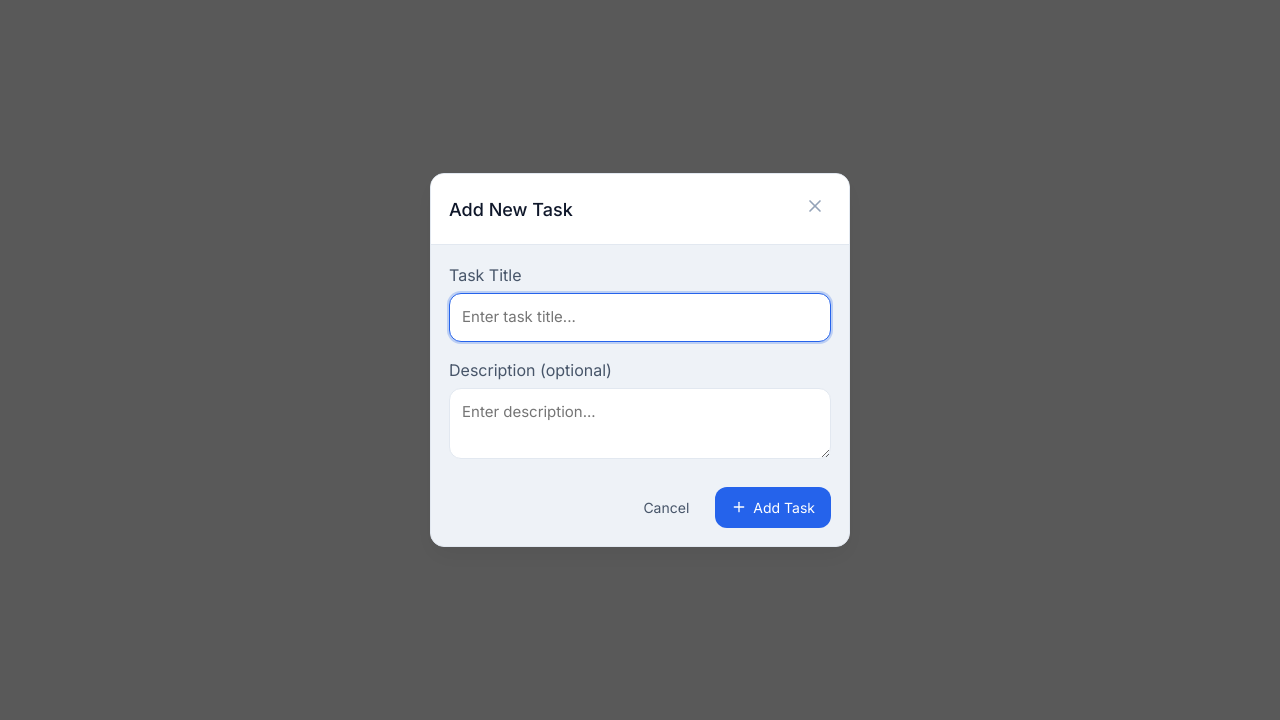
Scenario: AddTaskModal — validation › shows error for unsupported characters
The width and height of the screenshot is (1280, 720).
Type "Task @#$%" into the field labelled "Task Title" at (640, 318), box [449,293,831,342]
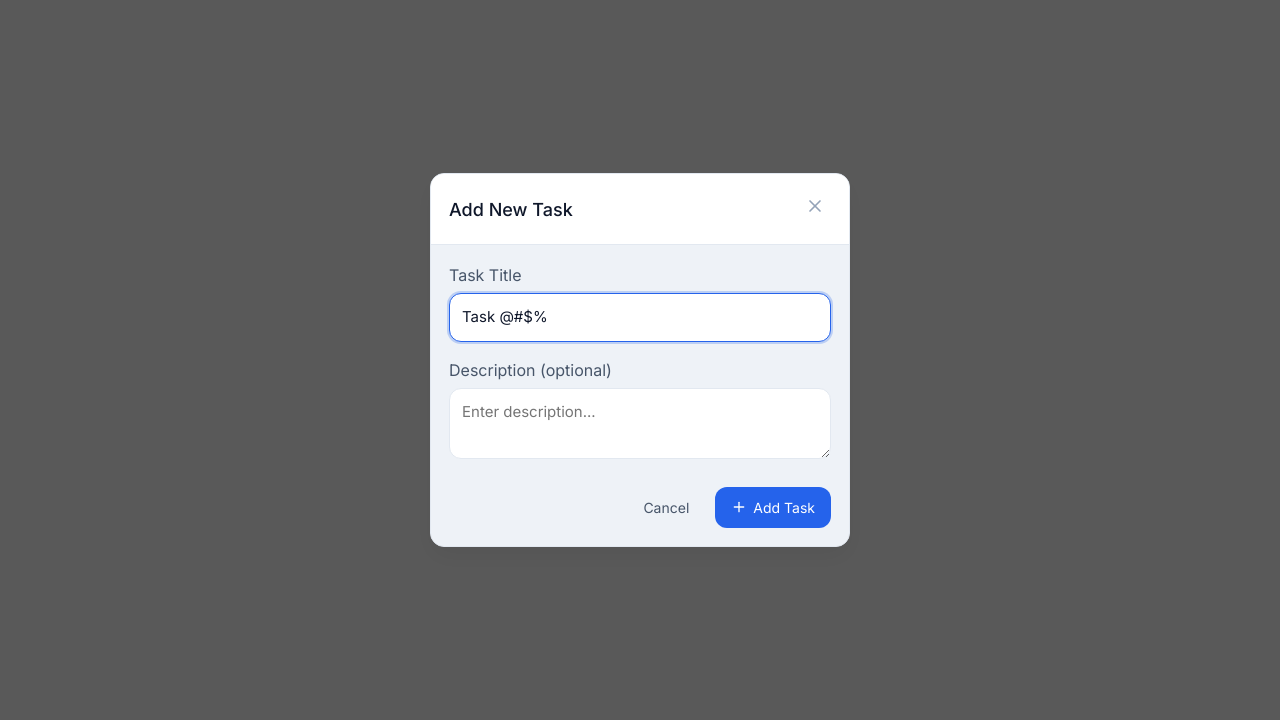
Click the button "Add Task" at (773, 507), box [715,487,831,528]
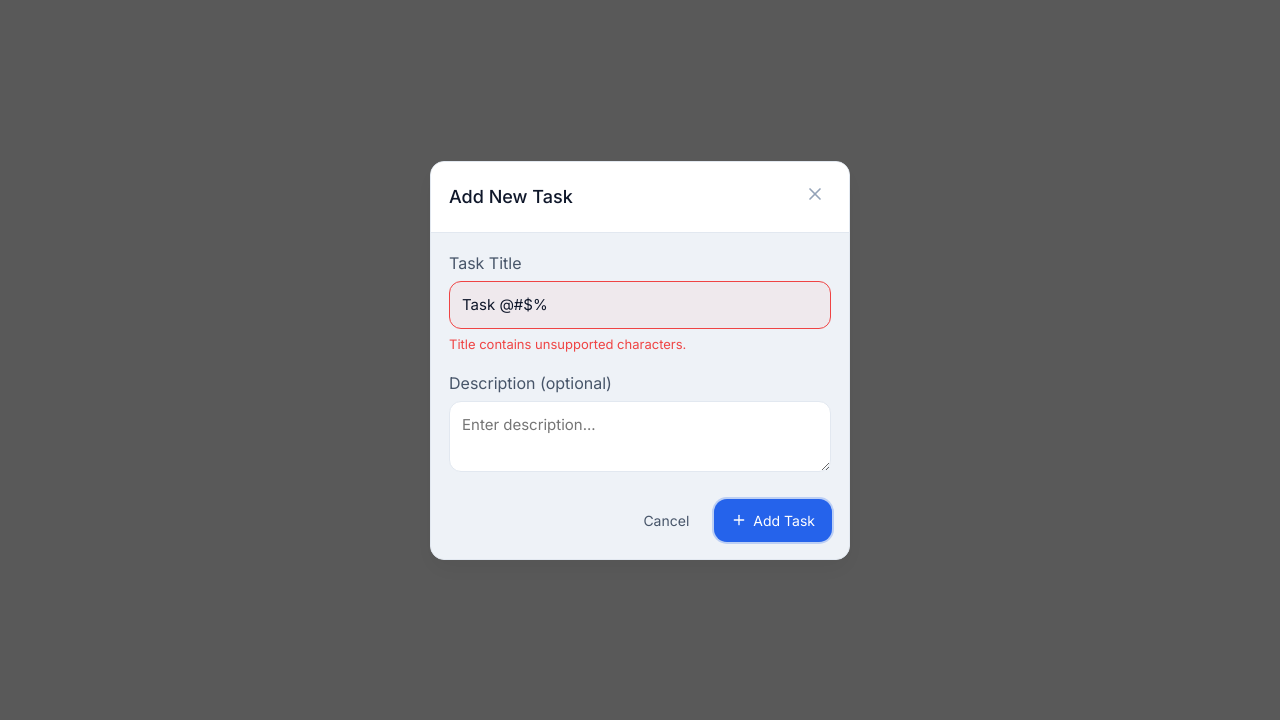
Now the text "Title contains unsupported characters." is shown, box [449,336,686,352]
